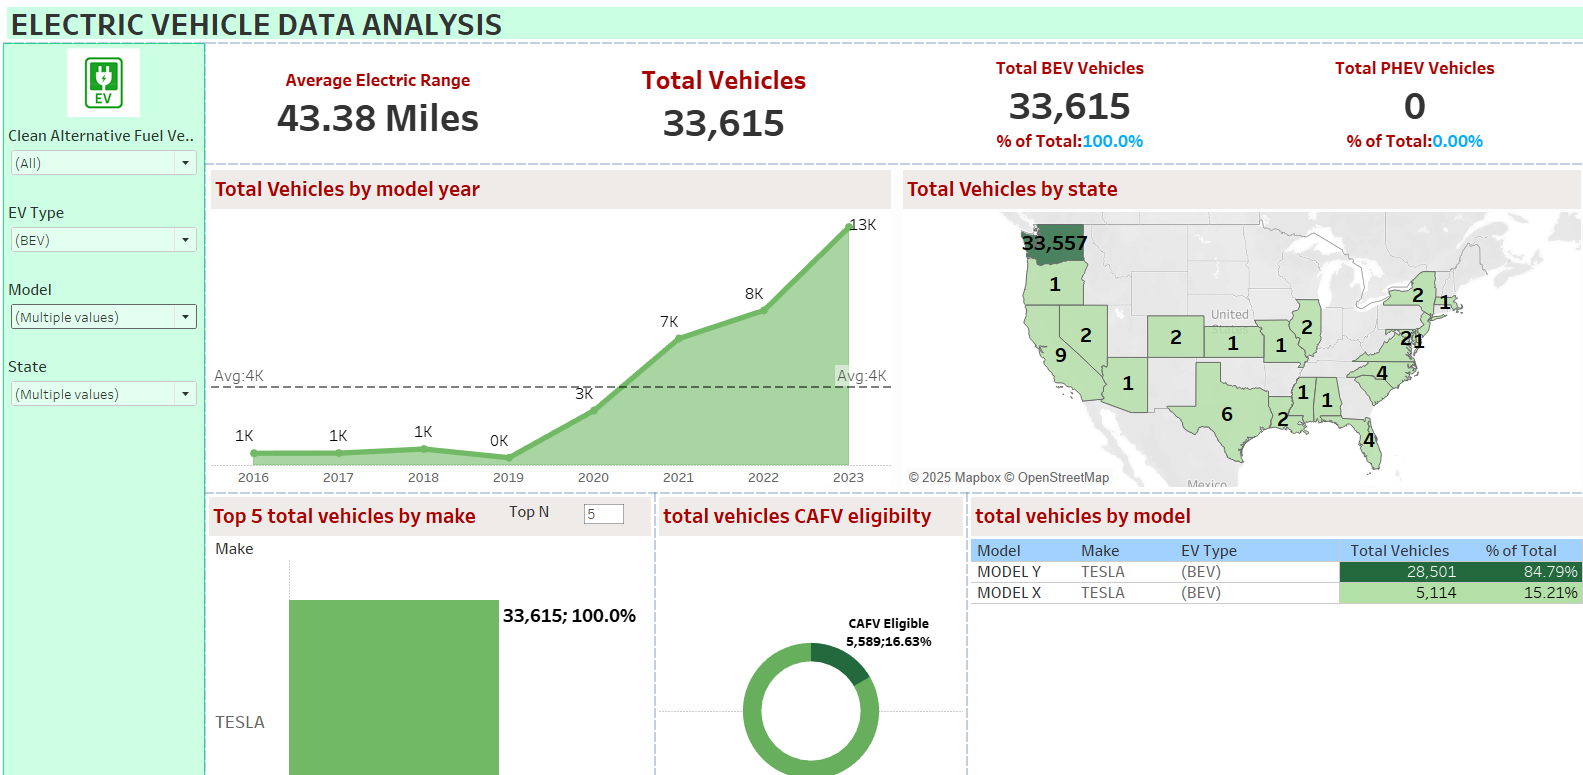

This screenshot's page, from the dashboard's own definition file:
{"tool":"tableau","page":{"name":"ELECTRIC VEHICLE DATA ANALYSIS","canvas":[1600,900],"ordinal":0},"visuals":[{"type":"title","box":[8,8,1584,40]},{"type":"worksheet","title":"average electric range","mark":"Automatic","box":[210,48,346,121]},{"type":"worksheet","title":"total vehicles","mark":"Automatic","box":[556,48,346,121]},{"type":"worksheet","title":"total BEV vehicles","mark":"Automatic","box":[902,48,345,121]},{"type":"worksheet","title":"total PHEV vehicles ","mark":"Automatic","box":[1247,48,345,121]},{"type":"image","param":"Image/download.png","box":[9,49,200,77]},{"type":"filter","title":"Total Vehicles by model year","param":"[federated.01rdx6m1gg19xk1blyqg60uifln7].[none:Clean Alternative Fuel Vehicle (C","box":[9,126,200,77]},{"type":"worksheet","title":"Total Vehicles by model year","mark":"Area","rows":["Calculation_632474340250247168","Calculation_632474340250247168"],"cols":["Model Year"],"box":[210,169,692,329]},{"type":"worksheet","title":"Total Vehicles by state","mark":"Multipolygon","box":[902,169,690,329]},{"type":"filter","title":"Total Vehicles by model year","param":"[federated.01rdx6m1gg19xk1blyqg60uifln7].[none:Electric Vehicle Type:nk]","box":[9,203,200,77]},{"type":"filter","title":"Total Vehicles by model year","param":"[federated.01rdx6m1gg19xk1blyqg60uifln7].[none:Model:nk]","box":[9,280,200,77]},{"type":"filter","title":"Total Vehicles by model year","param":"[federated.01rdx6m1gg19xk1blyqg60uifln7].[none:State:nk]","box":[9,357,200,77]},{"type":"blank","box":[9,434,200,77]},{"type":"worksheet","title":"Top 10 total vehicles by make","mark":"Automatic","rows":["Make"],"cols":["Calculation_632474340250247168"],"box":[210,498,450,394]},{"type":"worksheet","title":"total vehicles CAFV eligibilty","mark":"Pie","rows":["Calculation_632474340311818251","Calculation_632474340311818251"],"box":[660,498,312,394]},{"type":"worksheet","title":"total vehicles by model","mark":"Square","rows":["Model","Make","Electric Vehicle Type"],"box":[972,498,620,394]},{"type":"parameter","param":"[Parameters].[Parameter 1]","box":[514,506,118,28]},{"type":"blank","box":[9,511,200,76]},{"type":"blank","box":[9,587,200,76]},{"type":"blank","box":[9,663,200,76]},{"type":"blank","box":[9,739,200,76]},{"type":"blank","box":[9,815,200,76]}]}

Visuals, with their boxes on the page's 1600x900 design canvas (x1, y1, x2, y2). These are canvas units, not pixel positions in the 1583x775 screenshot, which may show the page scaled, cropped or inside an application window:
title: rect(8, 8, 1592, 48)
"average electric range" worksheet: rect(210, 48, 556, 169)
"total vehicles" worksheet: rect(556, 48, 902, 169)
"total BEV vehicles" worksheet: rect(902, 48, 1247, 169)
"total PHEV vehicles " worksheet: rect(1247, 48, 1592, 169)
image: rect(9, 49, 209, 126)
"Total Vehicles by model year" filter: rect(9, 126, 209, 203)
"Total Vehicles by model year" worksheet (Area marks): rect(210, 169, 902, 498)
"Total Vehicles by state" worksheet (Multipolygon marks): rect(902, 169, 1592, 498)
"Total Vehicles by model year" filter: rect(9, 203, 209, 280)
"Total Vehicles by model year" filter: rect(9, 280, 209, 357)
"Total Vehicles by model year" filter: rect(9, 357, 209, 434)
blank: rect(9, 434, 209, 511)
"Top 10 total vehicles by make" worksheet: rect(210, 498, 660, 892)
"total vehicles CAFV eligibilty" worksheet (Pie marks): rect(660, 498, 972, 892)
"total vehicles by model" worksheet (Square marks): rect(972, 498, 1592, 892)
parameter: rect(514, 506, 632, 534)
blank: rect(9, 511, 209, 587)
blank: rect(9, 587, 209, 663)
blank: rect(9, 663, 209, 739)
blank: rect(9, 739, 209, 815)
blank: rect(9, 815, 209, 891)
